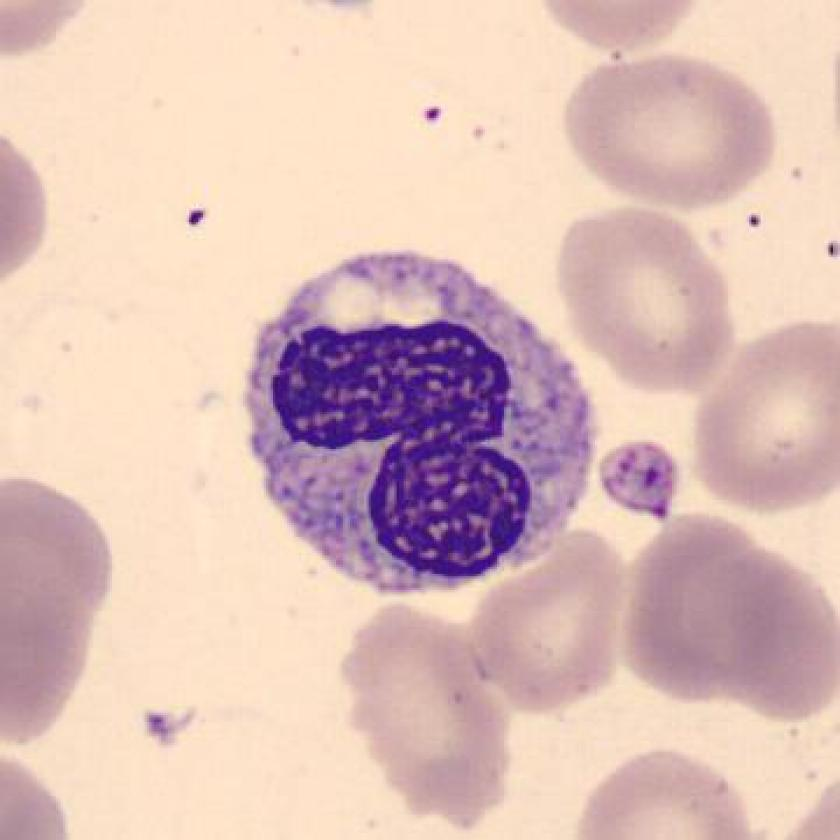monocyte: (225, 230, 615, 614)
